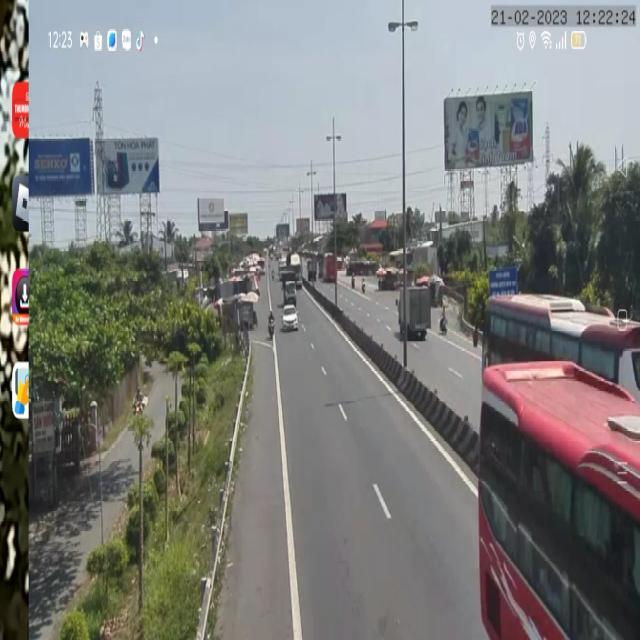bus: (475, 349, 640, 640), (482, 293, 640, 399), (323, 248, 337, 284)
car: (281, 305, 298, 331)
motorbike: (133, 384, 146, 415), (438, 302, 448, 335), (267, 307, 276, 340)
truck: (396, 284, 432, 341), (285, 249, 304, 288), (280, 269, 297, 304)
